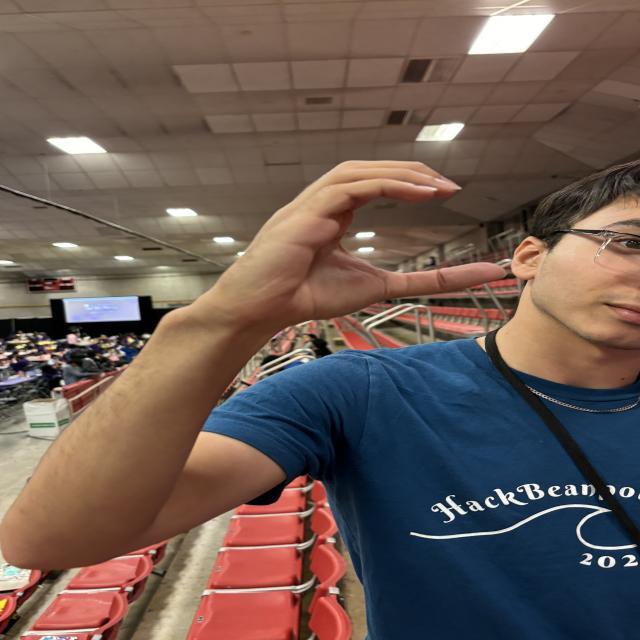C: (197, 149, 528, 333)
